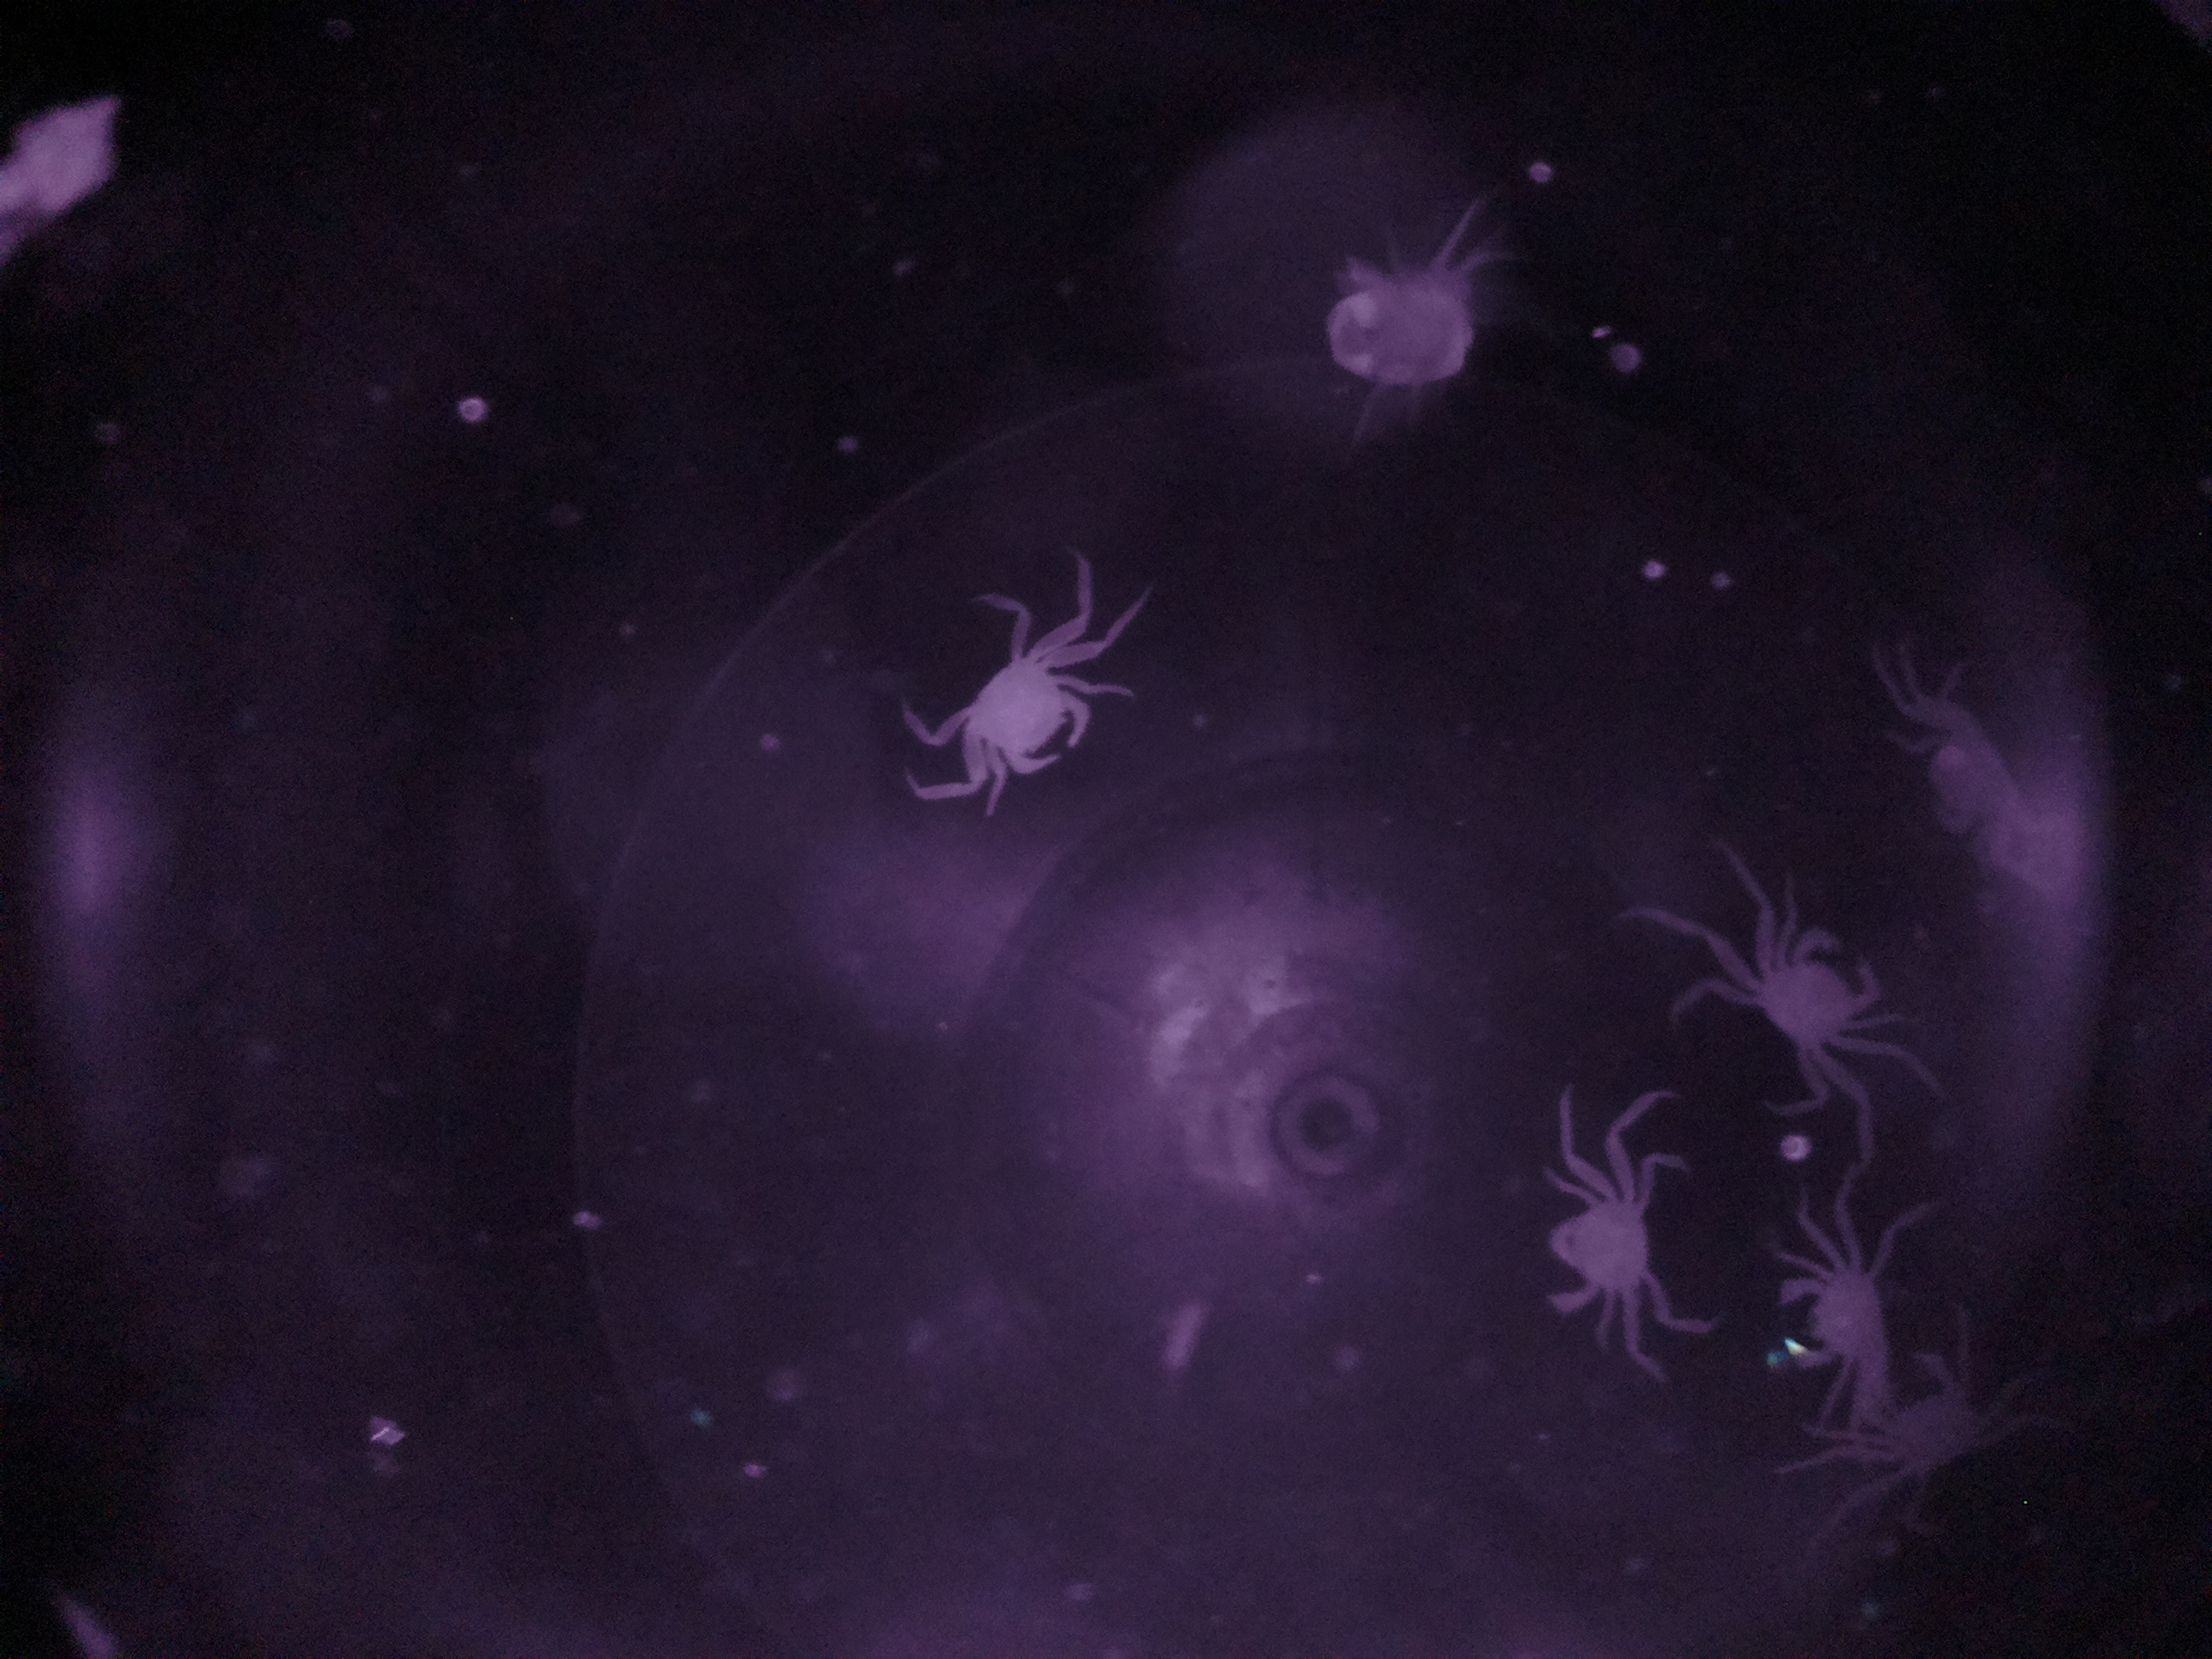Crab: (1517, 1094, 1672, 1363), (920, 617, 1109, 817), (1723, 894, 1897, 1087), (1757, 1202, 1904, 1408)
